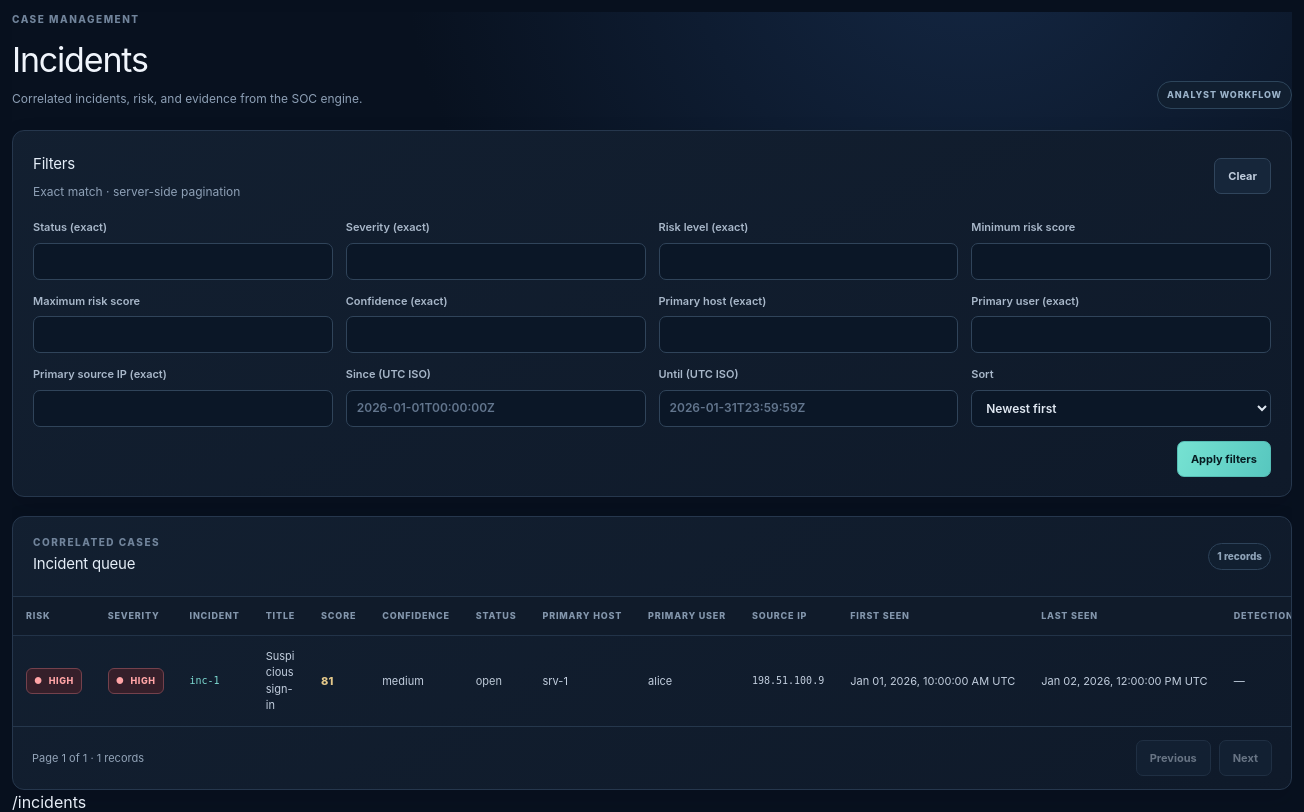
Test: Phase 8A dashboard › applies incident filters and the supported server sort to URL state
expect the table named "Incidents" is shown: met, box [13,597,1291,726]
In the field labelled "Primary host (exact)": point(808, 335) [658,316,958,353], type "srv-1"
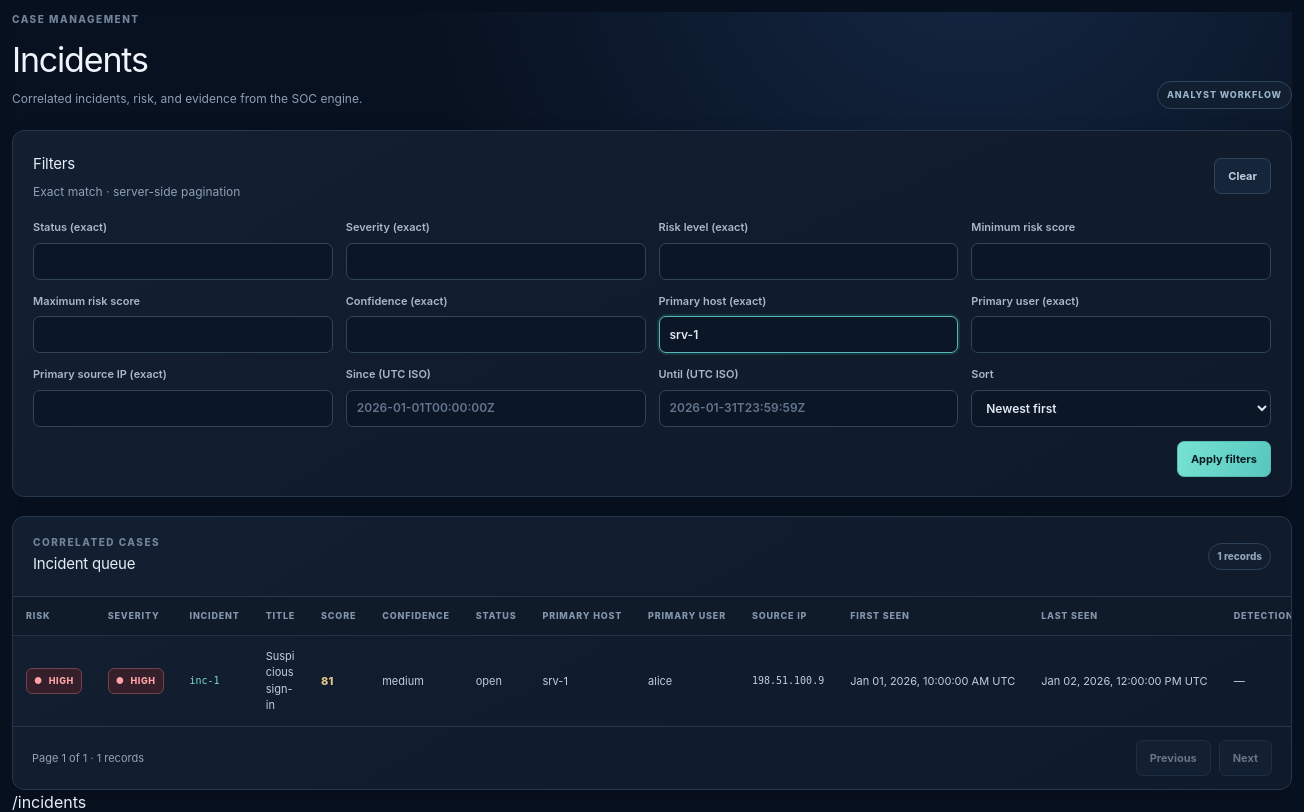
Select "Highest risk" in the dropdown labelled "Sort": point(1121, 408) [971,390,1271,427]
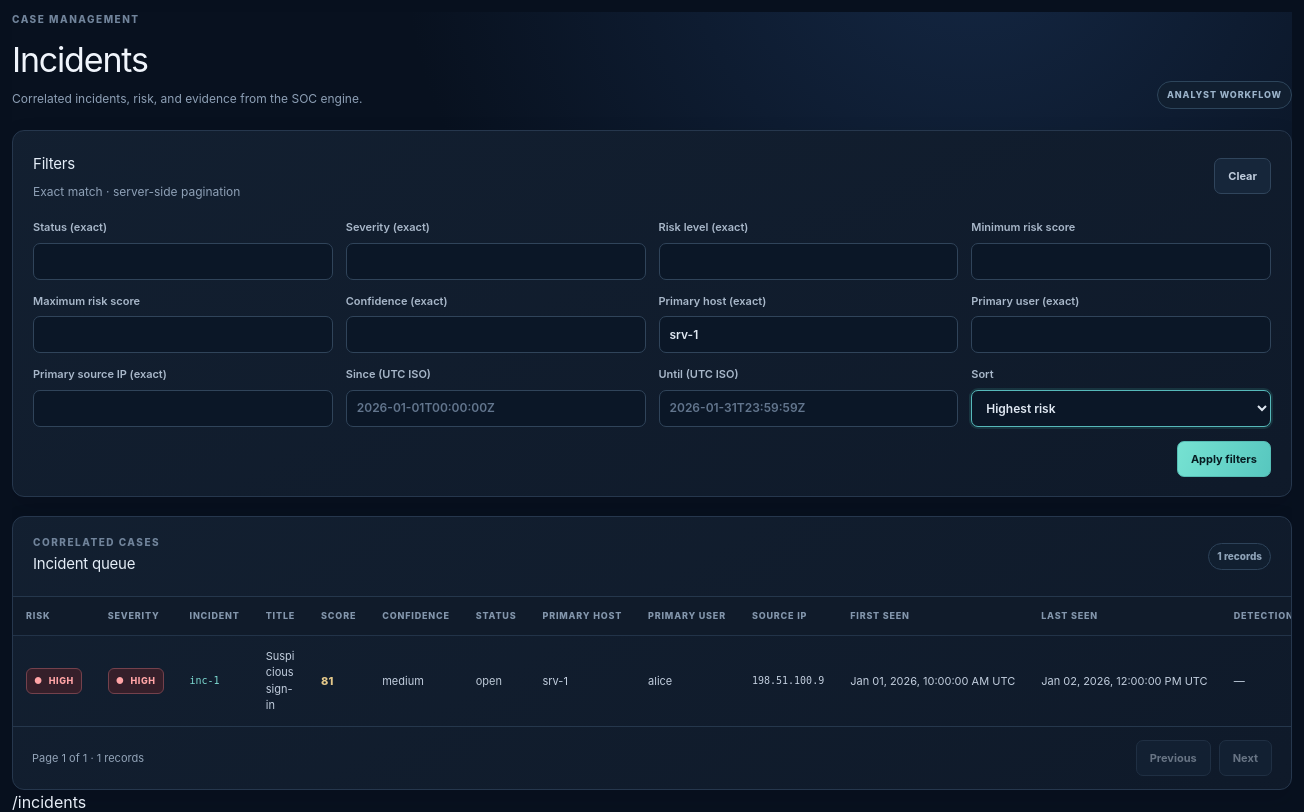
Click the button "Apply filters": point(1224, 459) [1177,441,1271,477]
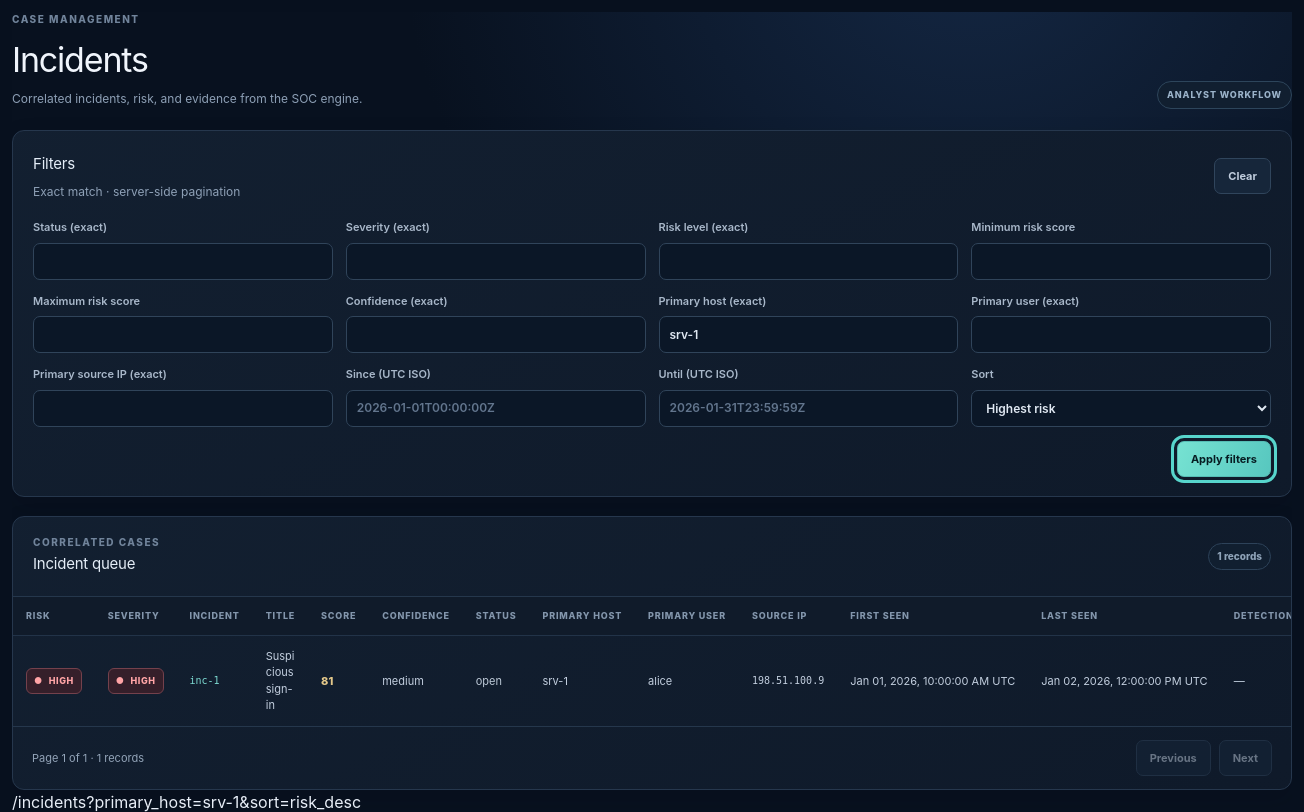
expect the text with test id "location" shows "primary_host=srv-1": met, box [86,792,361,811]
expect the text with test id "location" shows "sort=risk_desc": met, box [86,792,361,811]
